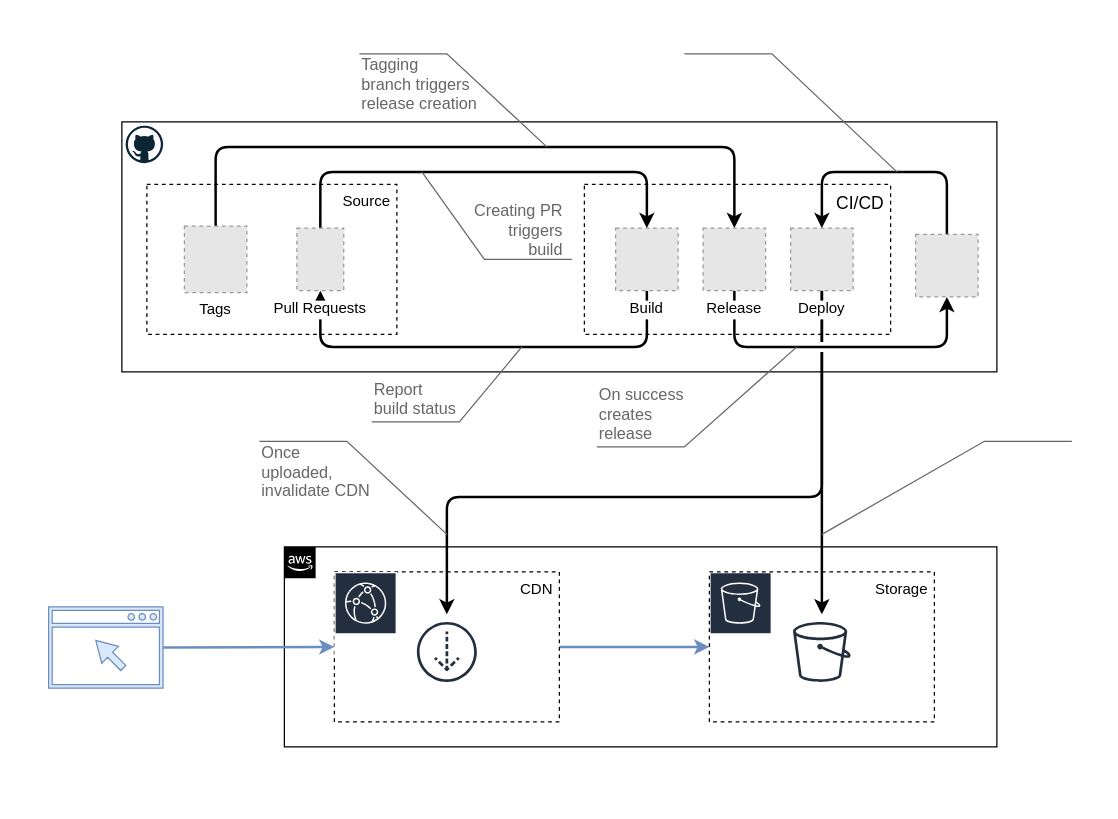
This 1118x819 diagram has some shape labels left out. Grey dashed boxes stand in for pictures. The centre of each missing label's shape, as x and y in pixels:
Browser: (105,647)
Cloudfront: (365,614)
Distribution: (446,651)
Release triggers deployment: (790,96)
S3: (740,610)
Storage Bucket: (821,651)
Upload release to bucket that "hosts" site: (946,471)
